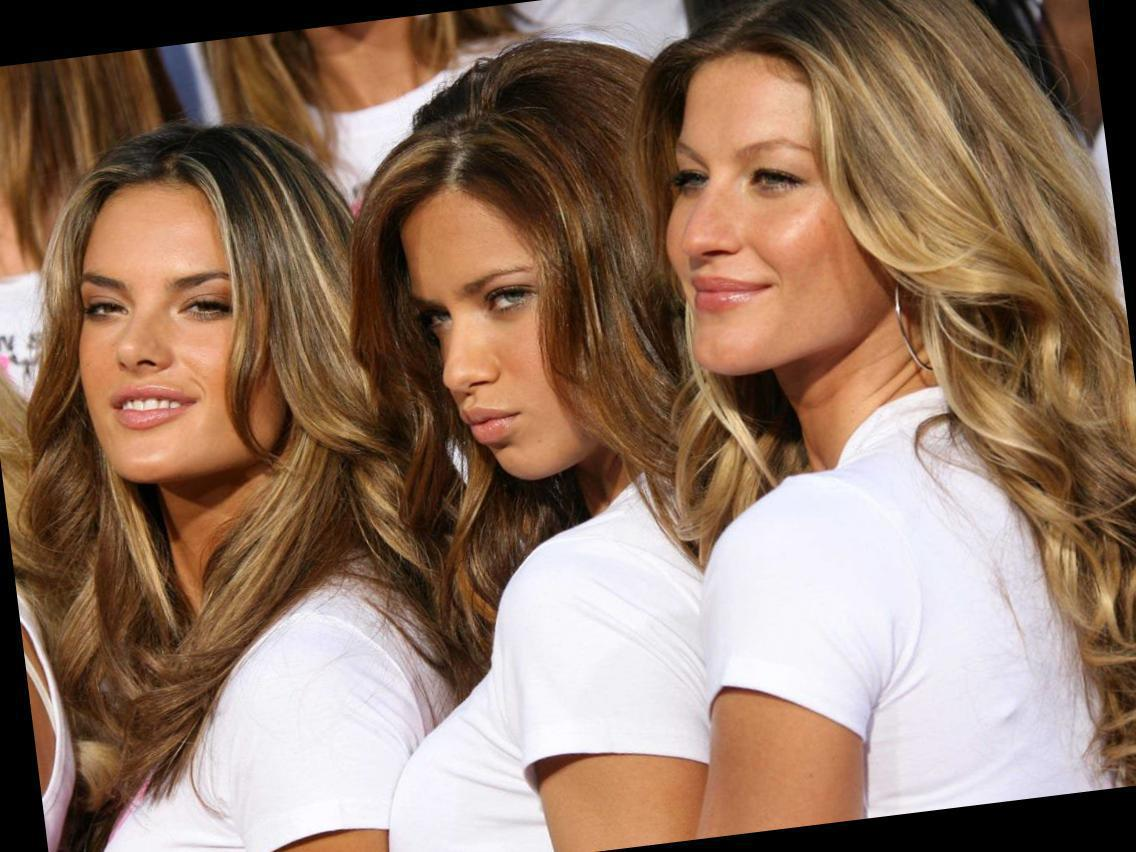Sober: (389, 196, 574, 469), (665, 78, 839, 358), (77, 202, 255, 462)
